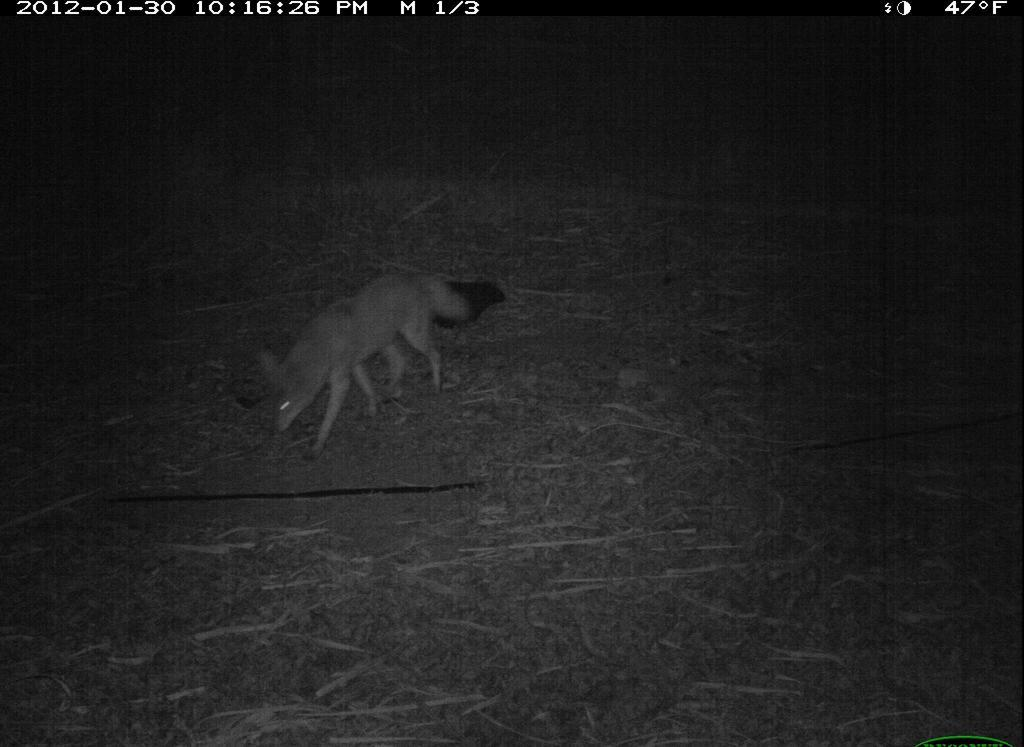coyote: (260, 259, 486, 459)
